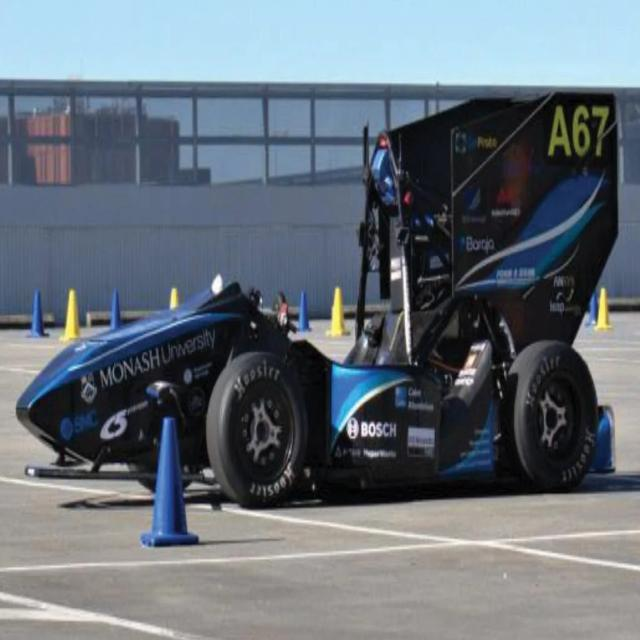blue_cone: (140, 418, 198, 546), (27, 288, 49, 338), (297, 292, 311, 331), (109, 289, 121, 330), (586, 289, 598, 326)
yellow_cone: (326, 287, 350, 335), (61, 290, 82, 340), (596, 288, 612, 329)
